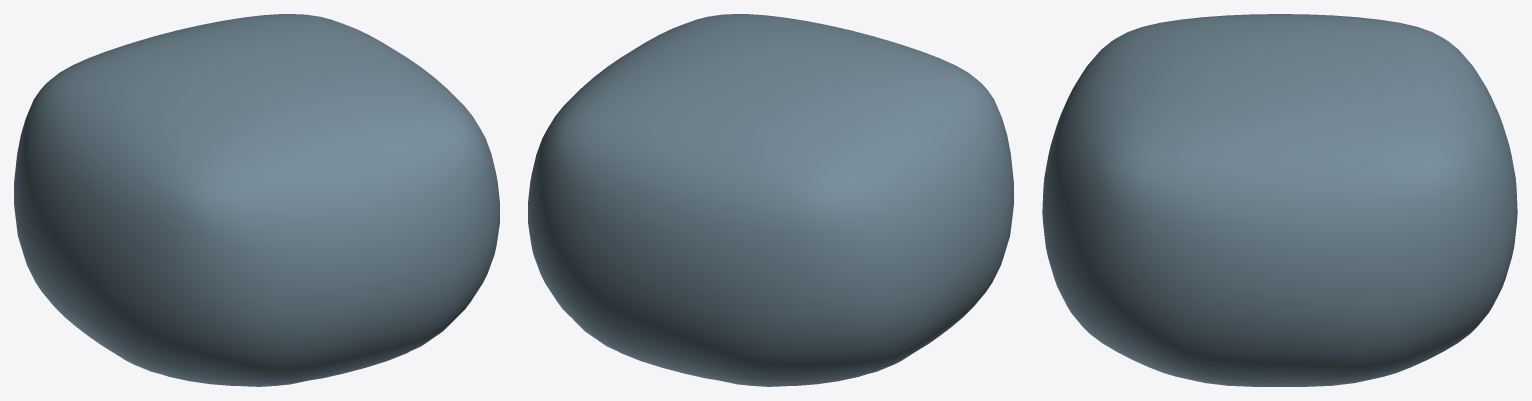
Rendered from Pouf2_9.fbx.
3 renders of one model, left to right at view 1: azimuth 30°, elevation 25°; view 2: azimuth 150°, elevation 25°; view 3: azimuth 270°, elevation 25°, orthographic. The views are drawn at different scales.
Parts seen in each view (by area): view 1: pCube2902; view 2: pCube2902; view 3: pCube2902.
Part boxes in pixels (x1,y1,x2,y2): pCube2902: (14, 14, 499, 386); pCube2902: (528, 14, 1013, 386); pCube2902: (1042, 14, 1517, 386).
Size of the model in its own units: 34.76 by 23.17 by 34.75.
